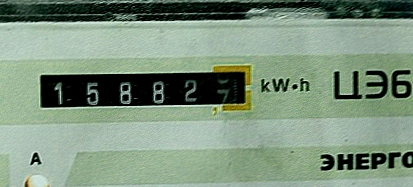1: (51, 78, 65, 106)
2: (182, 76, 198, 104)
5: (83, 79, 101, 106)
7: (214, 86, 230, 103)
8: (116, 79, 132, 107), (150, 77, 165, 105)
screen: (26, 57, 261, 120)
